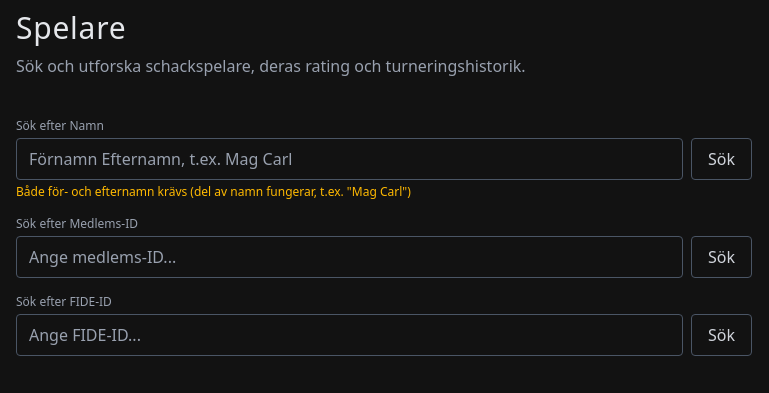
players search page › clears the error as soon as the id is edited again
The width and height of the screenshot is (769, 393).
In the number field with placeholder "Ange medlems-ID...": (350, 257) [16,236,683,278], type "1"
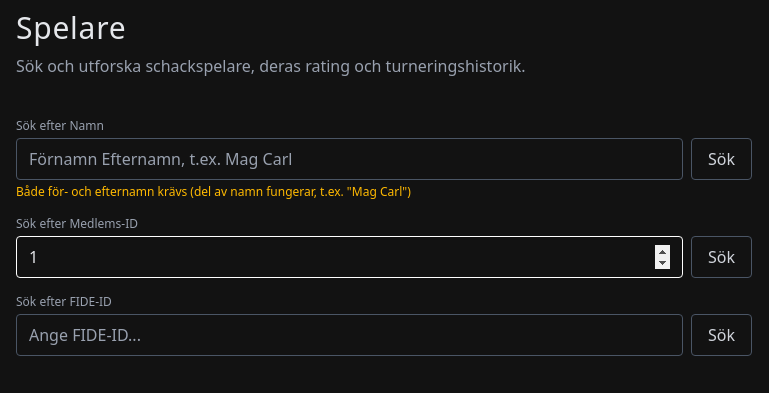
Click the 2nd button "Sök": (722, 257) [691,236,752,278]
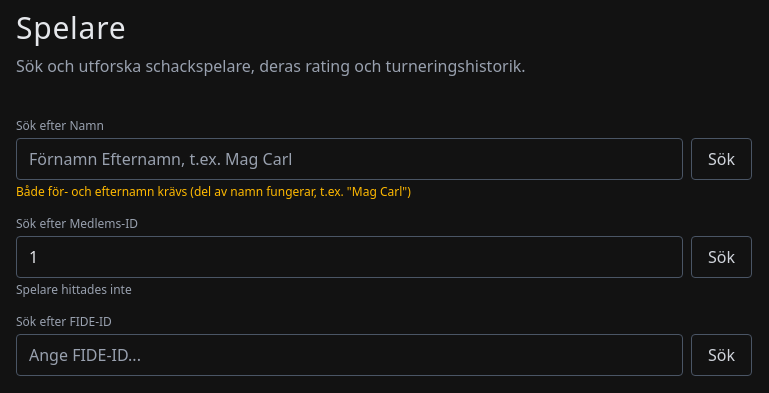
Expected: the text "Spelare hittades inte" is shown, [16,281,132,298]
In the 1st number field: (350, 257) [16,236,683,278], type "2"
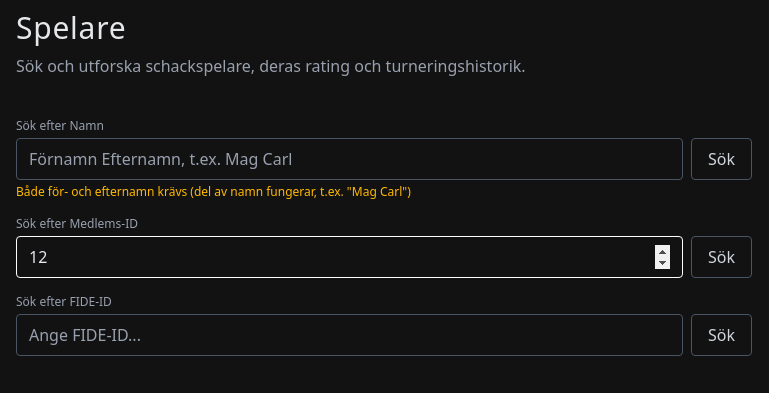
Expected: the text "Spelare hittades inte" is gone
